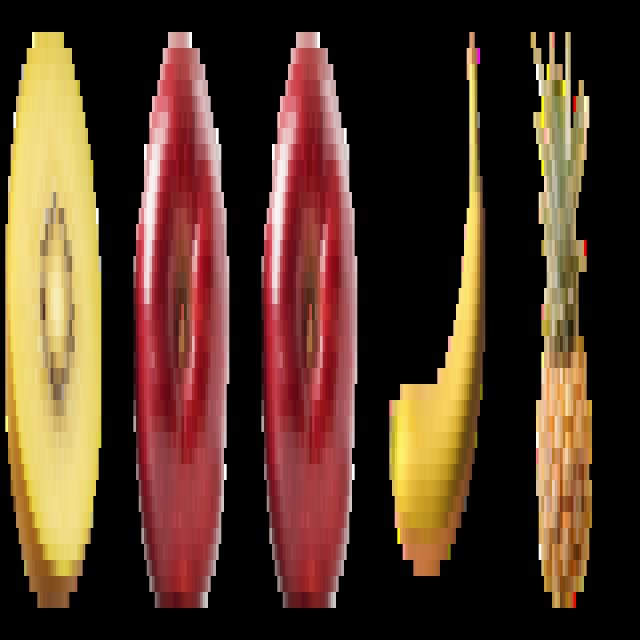apple: (130, 13, 235, 630), (258, 19, 363, 623)
bananas: (384, 19, 490, 616)
kiwifruit: (4, 16, 105, 631)
pineapples: (526, 6, 600, 622)
